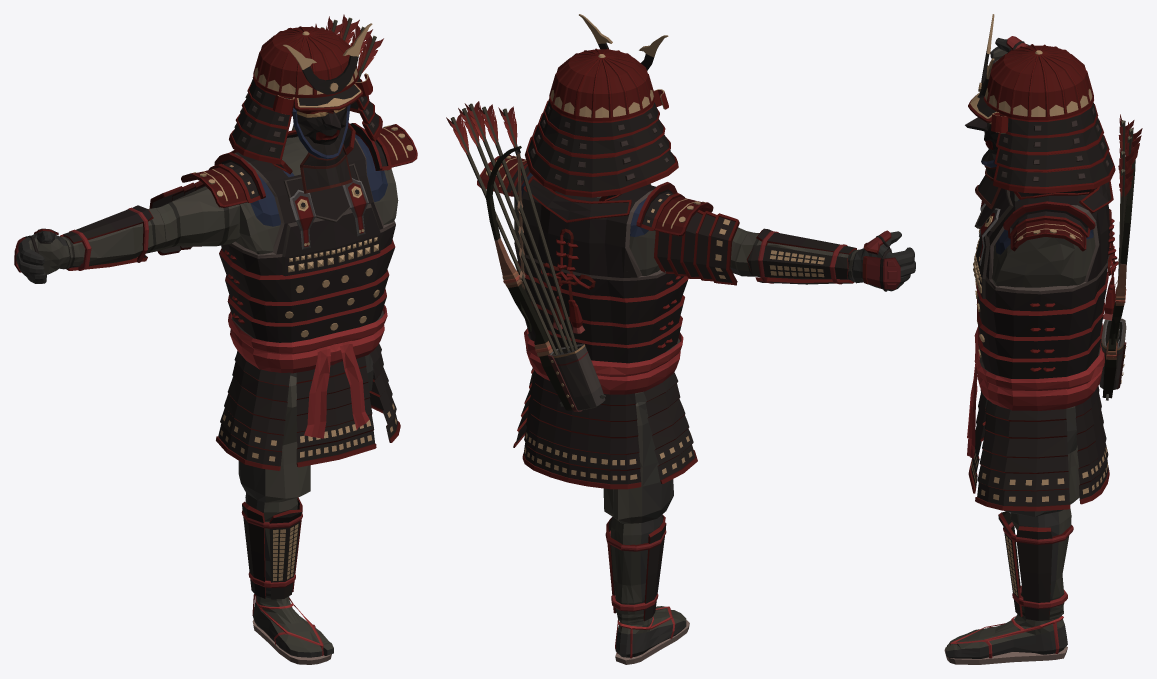
Rendered from samuraiArmor.glb.
The picture shows the model from 3 angles, left to right: view 1: azimuth 30°, elevation 25°; view 2: azimuth 150°, elevation 25°; view 3: azimuth 270°, elevation 25°; orthographic projection. The views are drawn at different scales.
Parts seen in each view (by area): view 1: samuraiArmorBody, samuraiArmorHelmet, samuraiArmorLowerLeg, samuraiArmorLowerArm, samuraiArmorUpperArm, samuraiArmorFoot, samuraiPants, samuraiArmorBodyShirt, samuraiGlove, samuraiQuiver; view 2: samuraiArmorBody, samuraiArmorHelmet, samuraiQuiver, samuraiArmorLowerArm, samuraiArmorLowerLeg, samuraiArmorUpperArm, samuraiPants, samuraiArmorFoot, samuraiGlove, samuraiArmorBodyShirt; view 3: samuraiArmorBody, samuraiArmorHelmet, samuraiArmorLowerLeg, samuraiArmorBodyShirt, samuraiArmorFoot, samuraiQuiver, samuraiPants, samuraiGlove.
Boxes of the visible parts, box(x1,y1,x2,y2) form: samuraiArmorBody: box(181, 110, 417, 470); samuraiArmorHelmet: box(229, 23, 382, 193); samuraiArmorLowerLeg: box(241, 493, 302, 600); samuraiArmorLowerArm: box(60, 205, 165, 270); samuraiArmorUpperArm: box(149, 181, 240, 255); samuraiArmorFoot: box(252, 594, 333, 664); samuraiPants: box(238, 375, 310, 502); samuraiArmorBodyShirt: box(235, 136, 398, 391); samuraiGlove: box(14, 228, 69, 283); samuraiQuiver: box(292, 14, 383, 130); samuraiArmorBody: box(477, 154, 713, 489); samuraiArmorHelmet: box(525, 14, 678, 197); samuraiQuiver: box(446, 101, 605, 411); samuraiArmorLowerArm: box(735, 228, 859, 284); samuraiArmorLowerLeg: box(605, 514, 666, 623); samuraiArmorUpperArm: box(654, 210, 752, 285); samuraiPants: box(603, 402, 673, 523); samuraiArmorFoot: box(615, 606, 689, 664); samuraiGlove: box(852, 230, 915, 291); samuraiArmorBodyShirt: box(514, 196, 660, 413); samuraiArmorBody: box(967, 181, 1118, 511); samuraiArmorHelmet: box(965, 14, 1115, 209); samuraiArmorLowerLeg: box(998, 508, 1073, 620); samuraiArmorBodyShirt: box(985, 193, 1095, 453); samuraiArmorFoot: box(944, 614, 1067, 664); samuraiQuiver: box(1099, 114, 1142, 400); samuraiPants: box(1004, 445, 1079, 516); samuraiGlove: box(990, 36, 1033, 63).
Bounding box in the file's own units: 1.46 × 2.03 × 0.5727.
